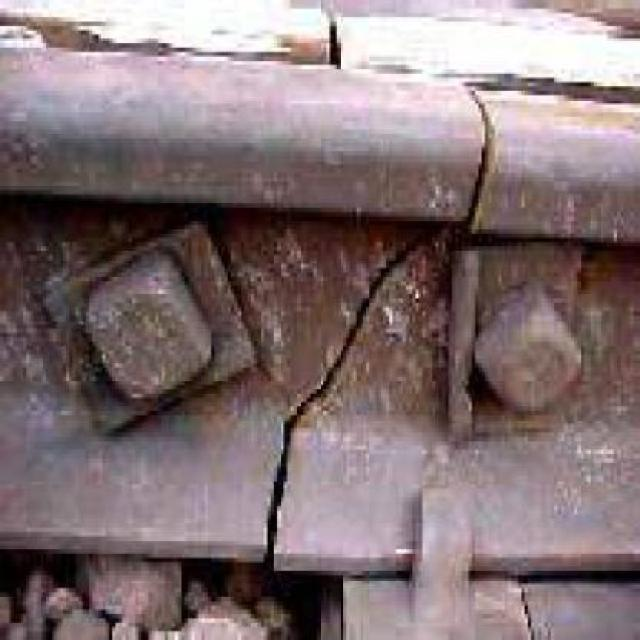defective: (140, 17, 640, 640)
